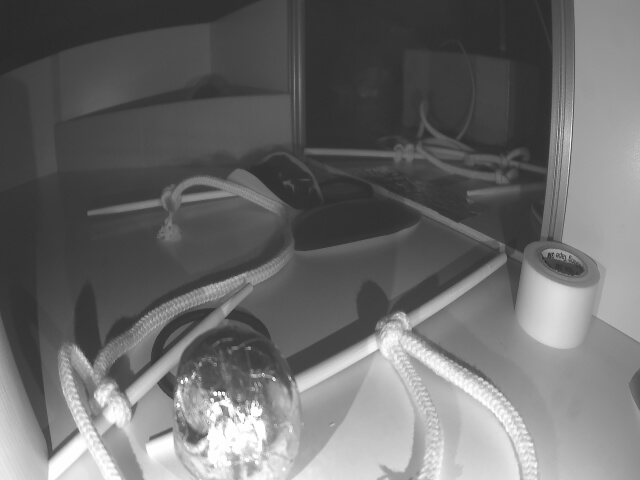Live: (176, 324, 300, 480)
Point: (58, 83, 293, 169)
